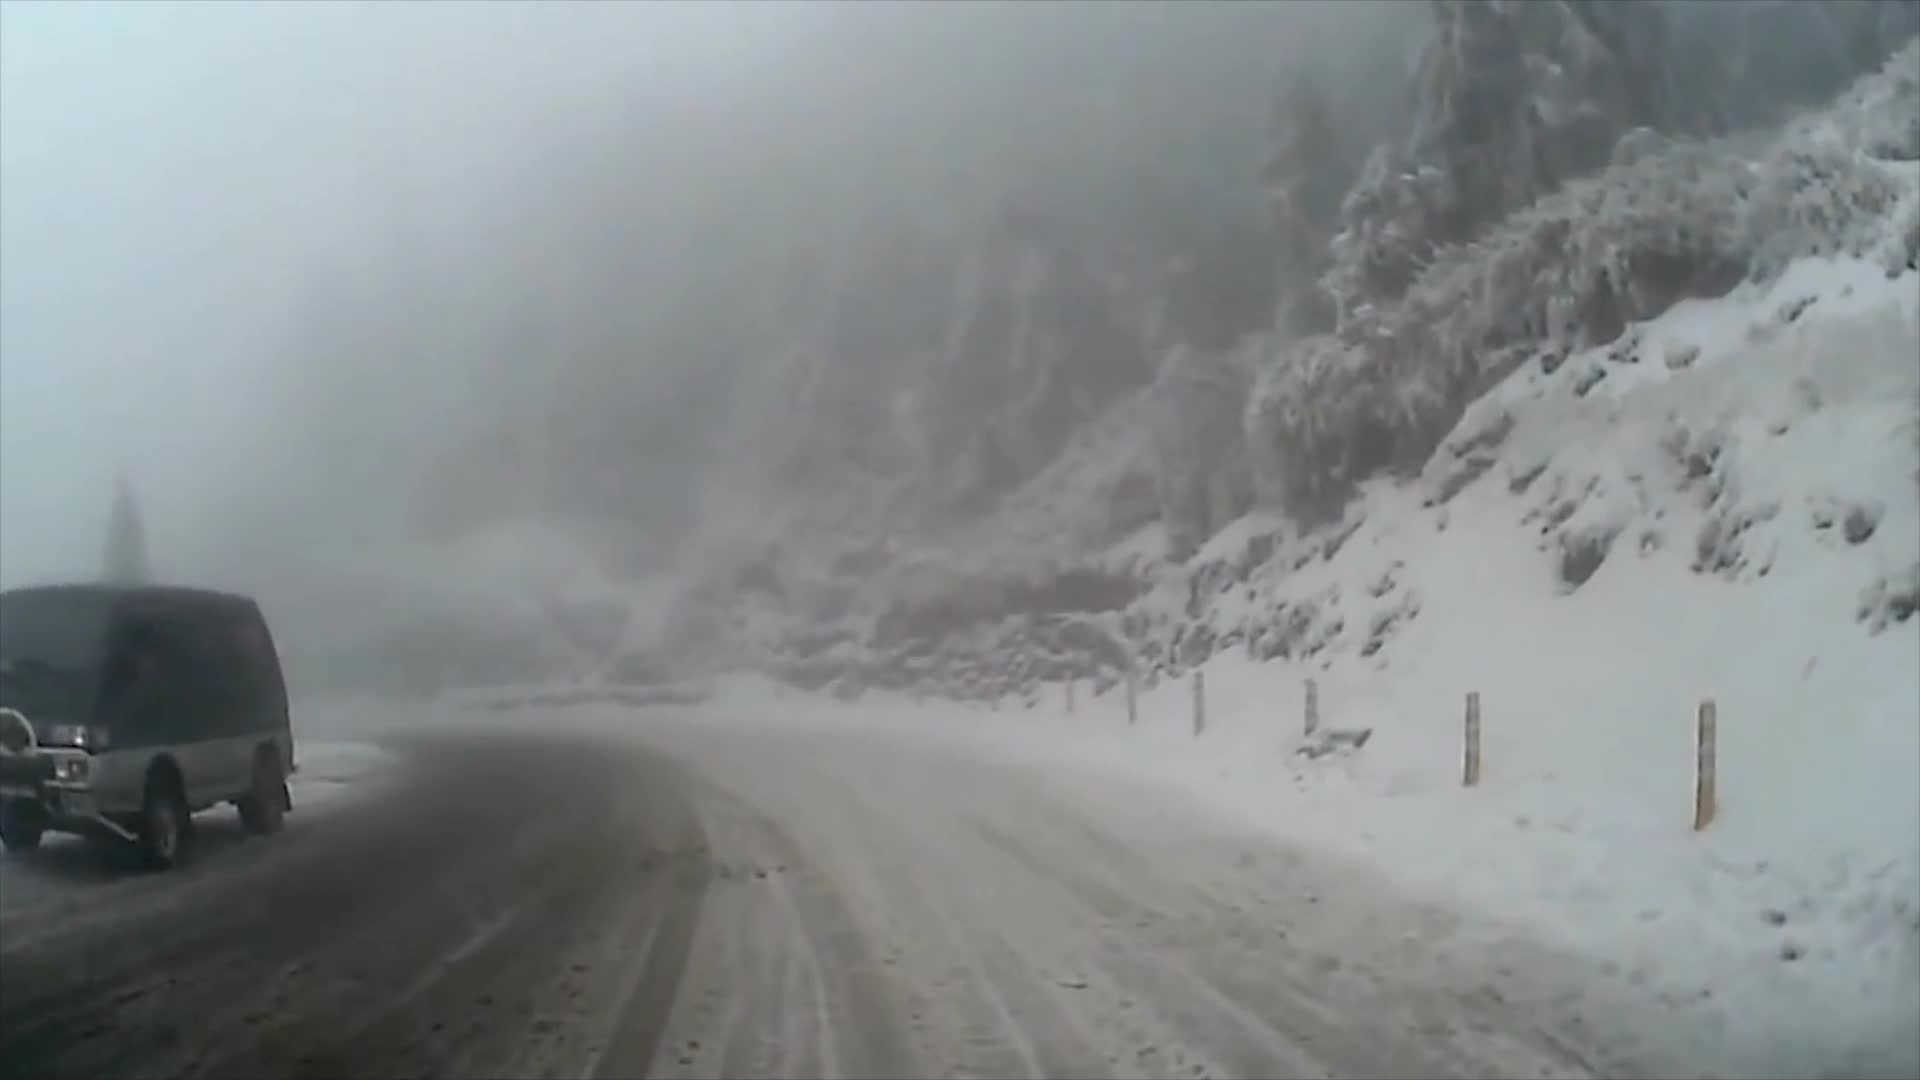vehicle: (0, 584, 297, 869)
